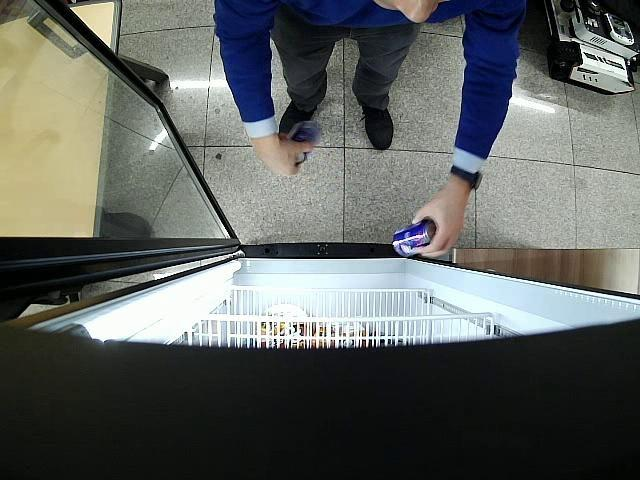14_welchsGrape: (393, 220, 436, 258)
